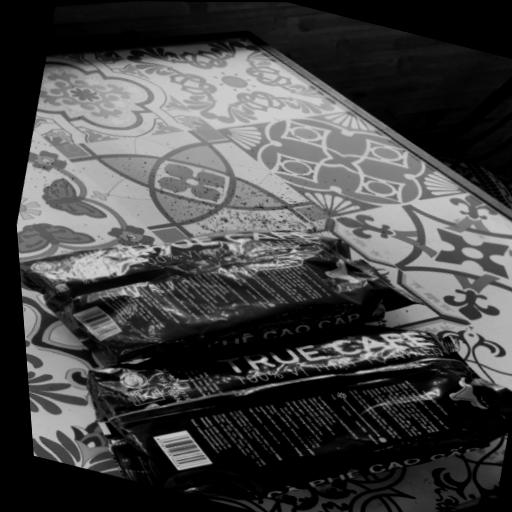cafe_hat: (88, 325, 512, 512)
cafe_xay: (19, 230, 421, 366)
